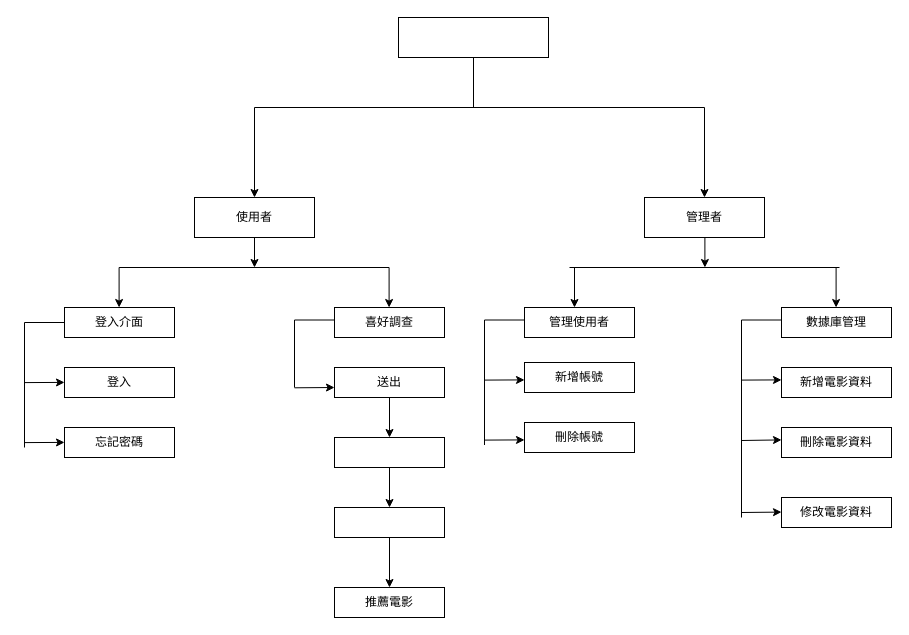
Some shapes in this 909 by 635 pixel diagram are drawn without their labels. The shapes that lost their labels are listed below. From the top down, each one's centre as x and y in pixels, then its label:
At point (473, 37): "Ａ movie I recommend".
At point (389, 452): "主頁".
At point (389, 522): "推薦及查詢電影".
